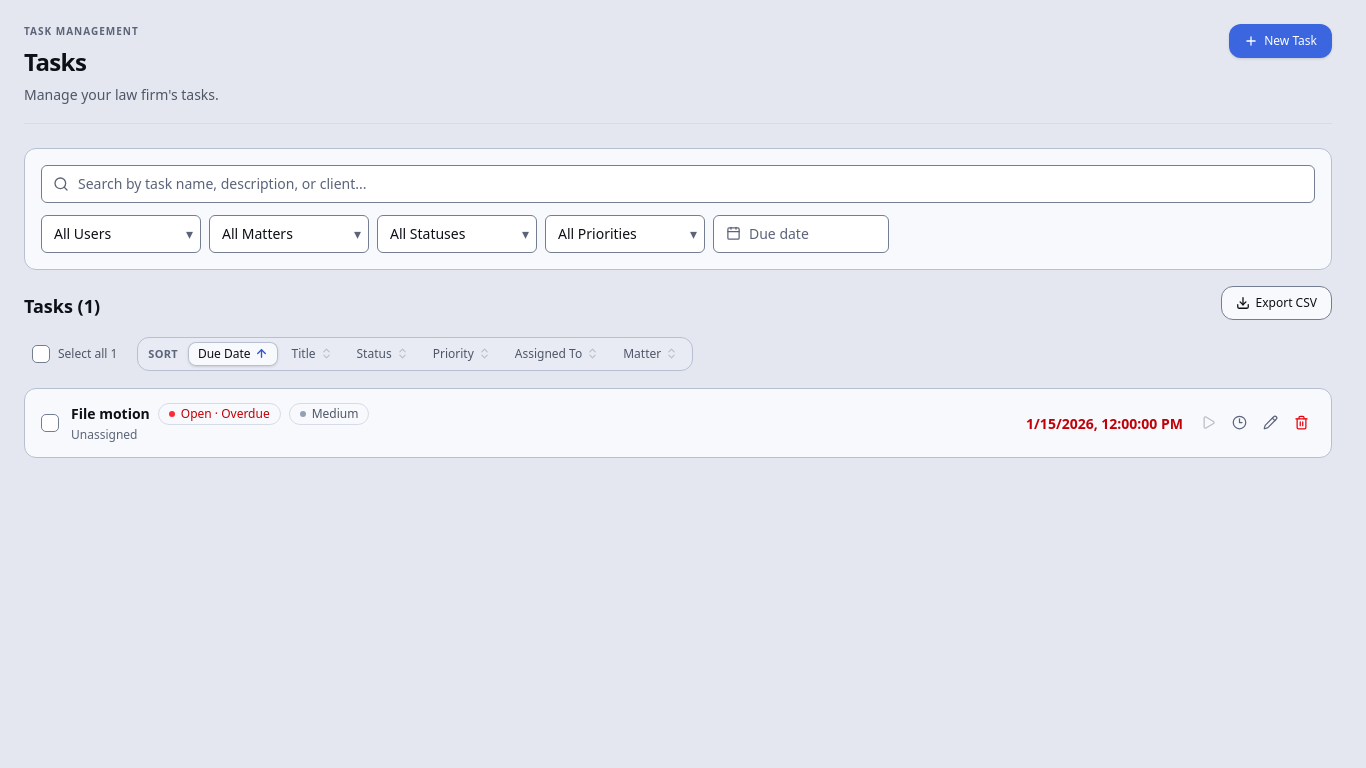
Test: a successful action: deleting a task › removes the task and refreshes the list
This screenshot has width=1366, height=768.
Expected: the text "File motion" is shown, [71,404,150,424]
Click the button named "Delete" at {"x": 1302, "y": 423}, box [1288,409,1315,436]
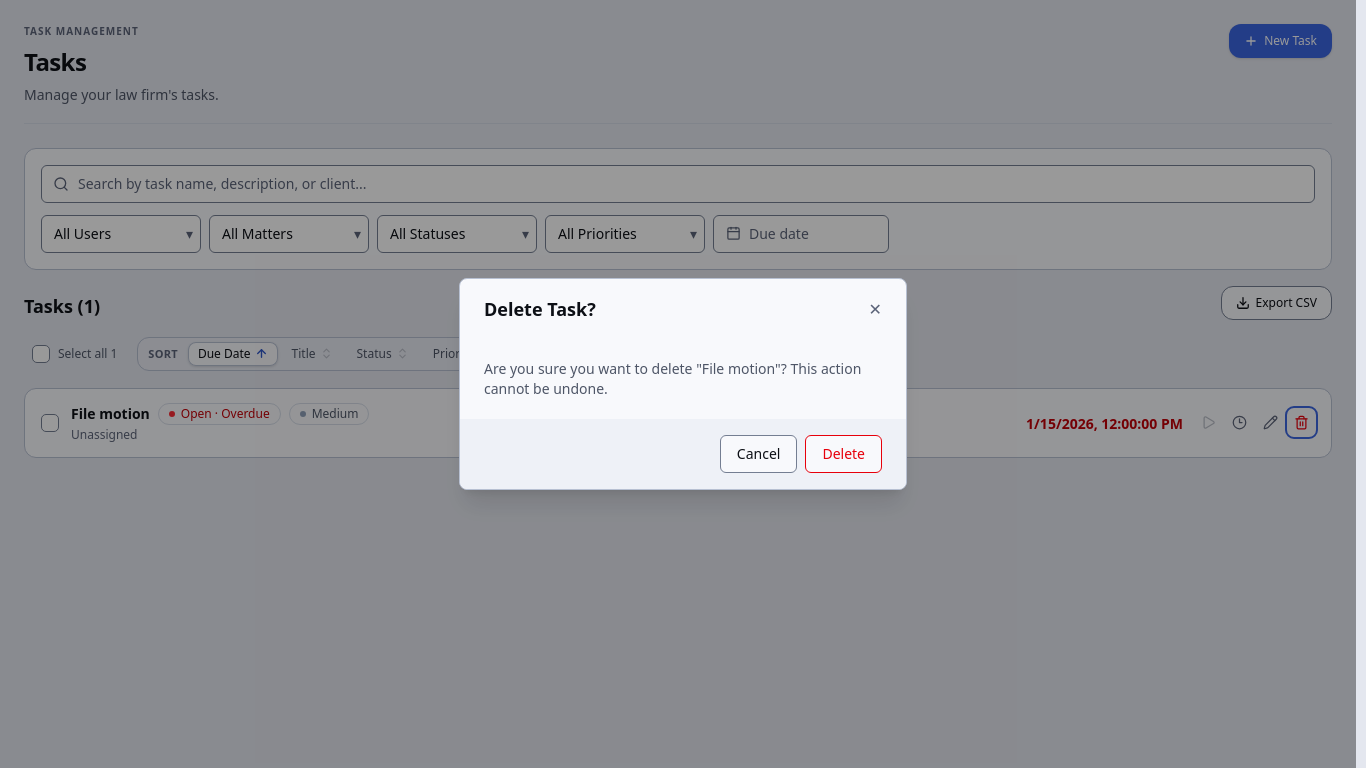
Now the text "File motion" is shown, box [484,359,861,398]
Click the button "Delete" at {"x": 844, "y": 454}, box [805,435,882,473]
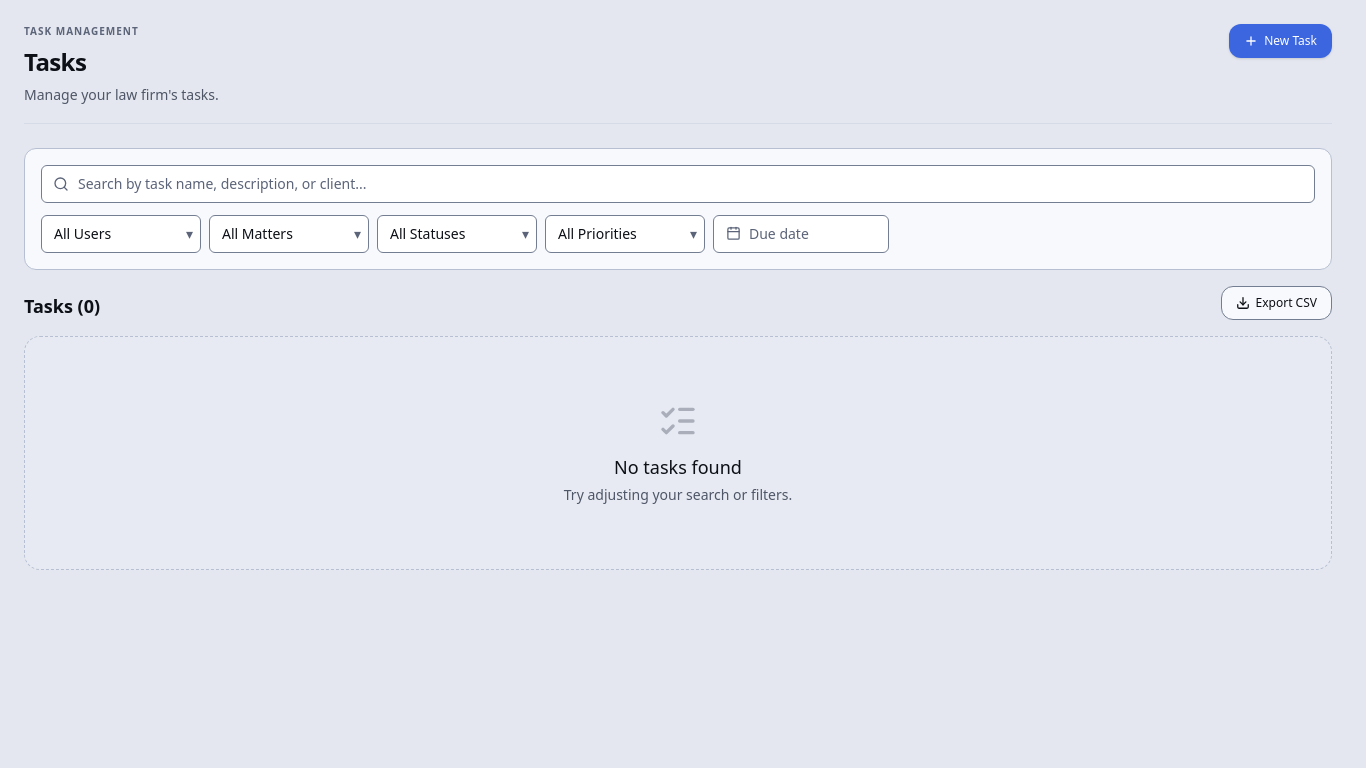
Now the text "File motion" is gone
Now the text "No tasks found" is shown, box [614,455,742,479]
